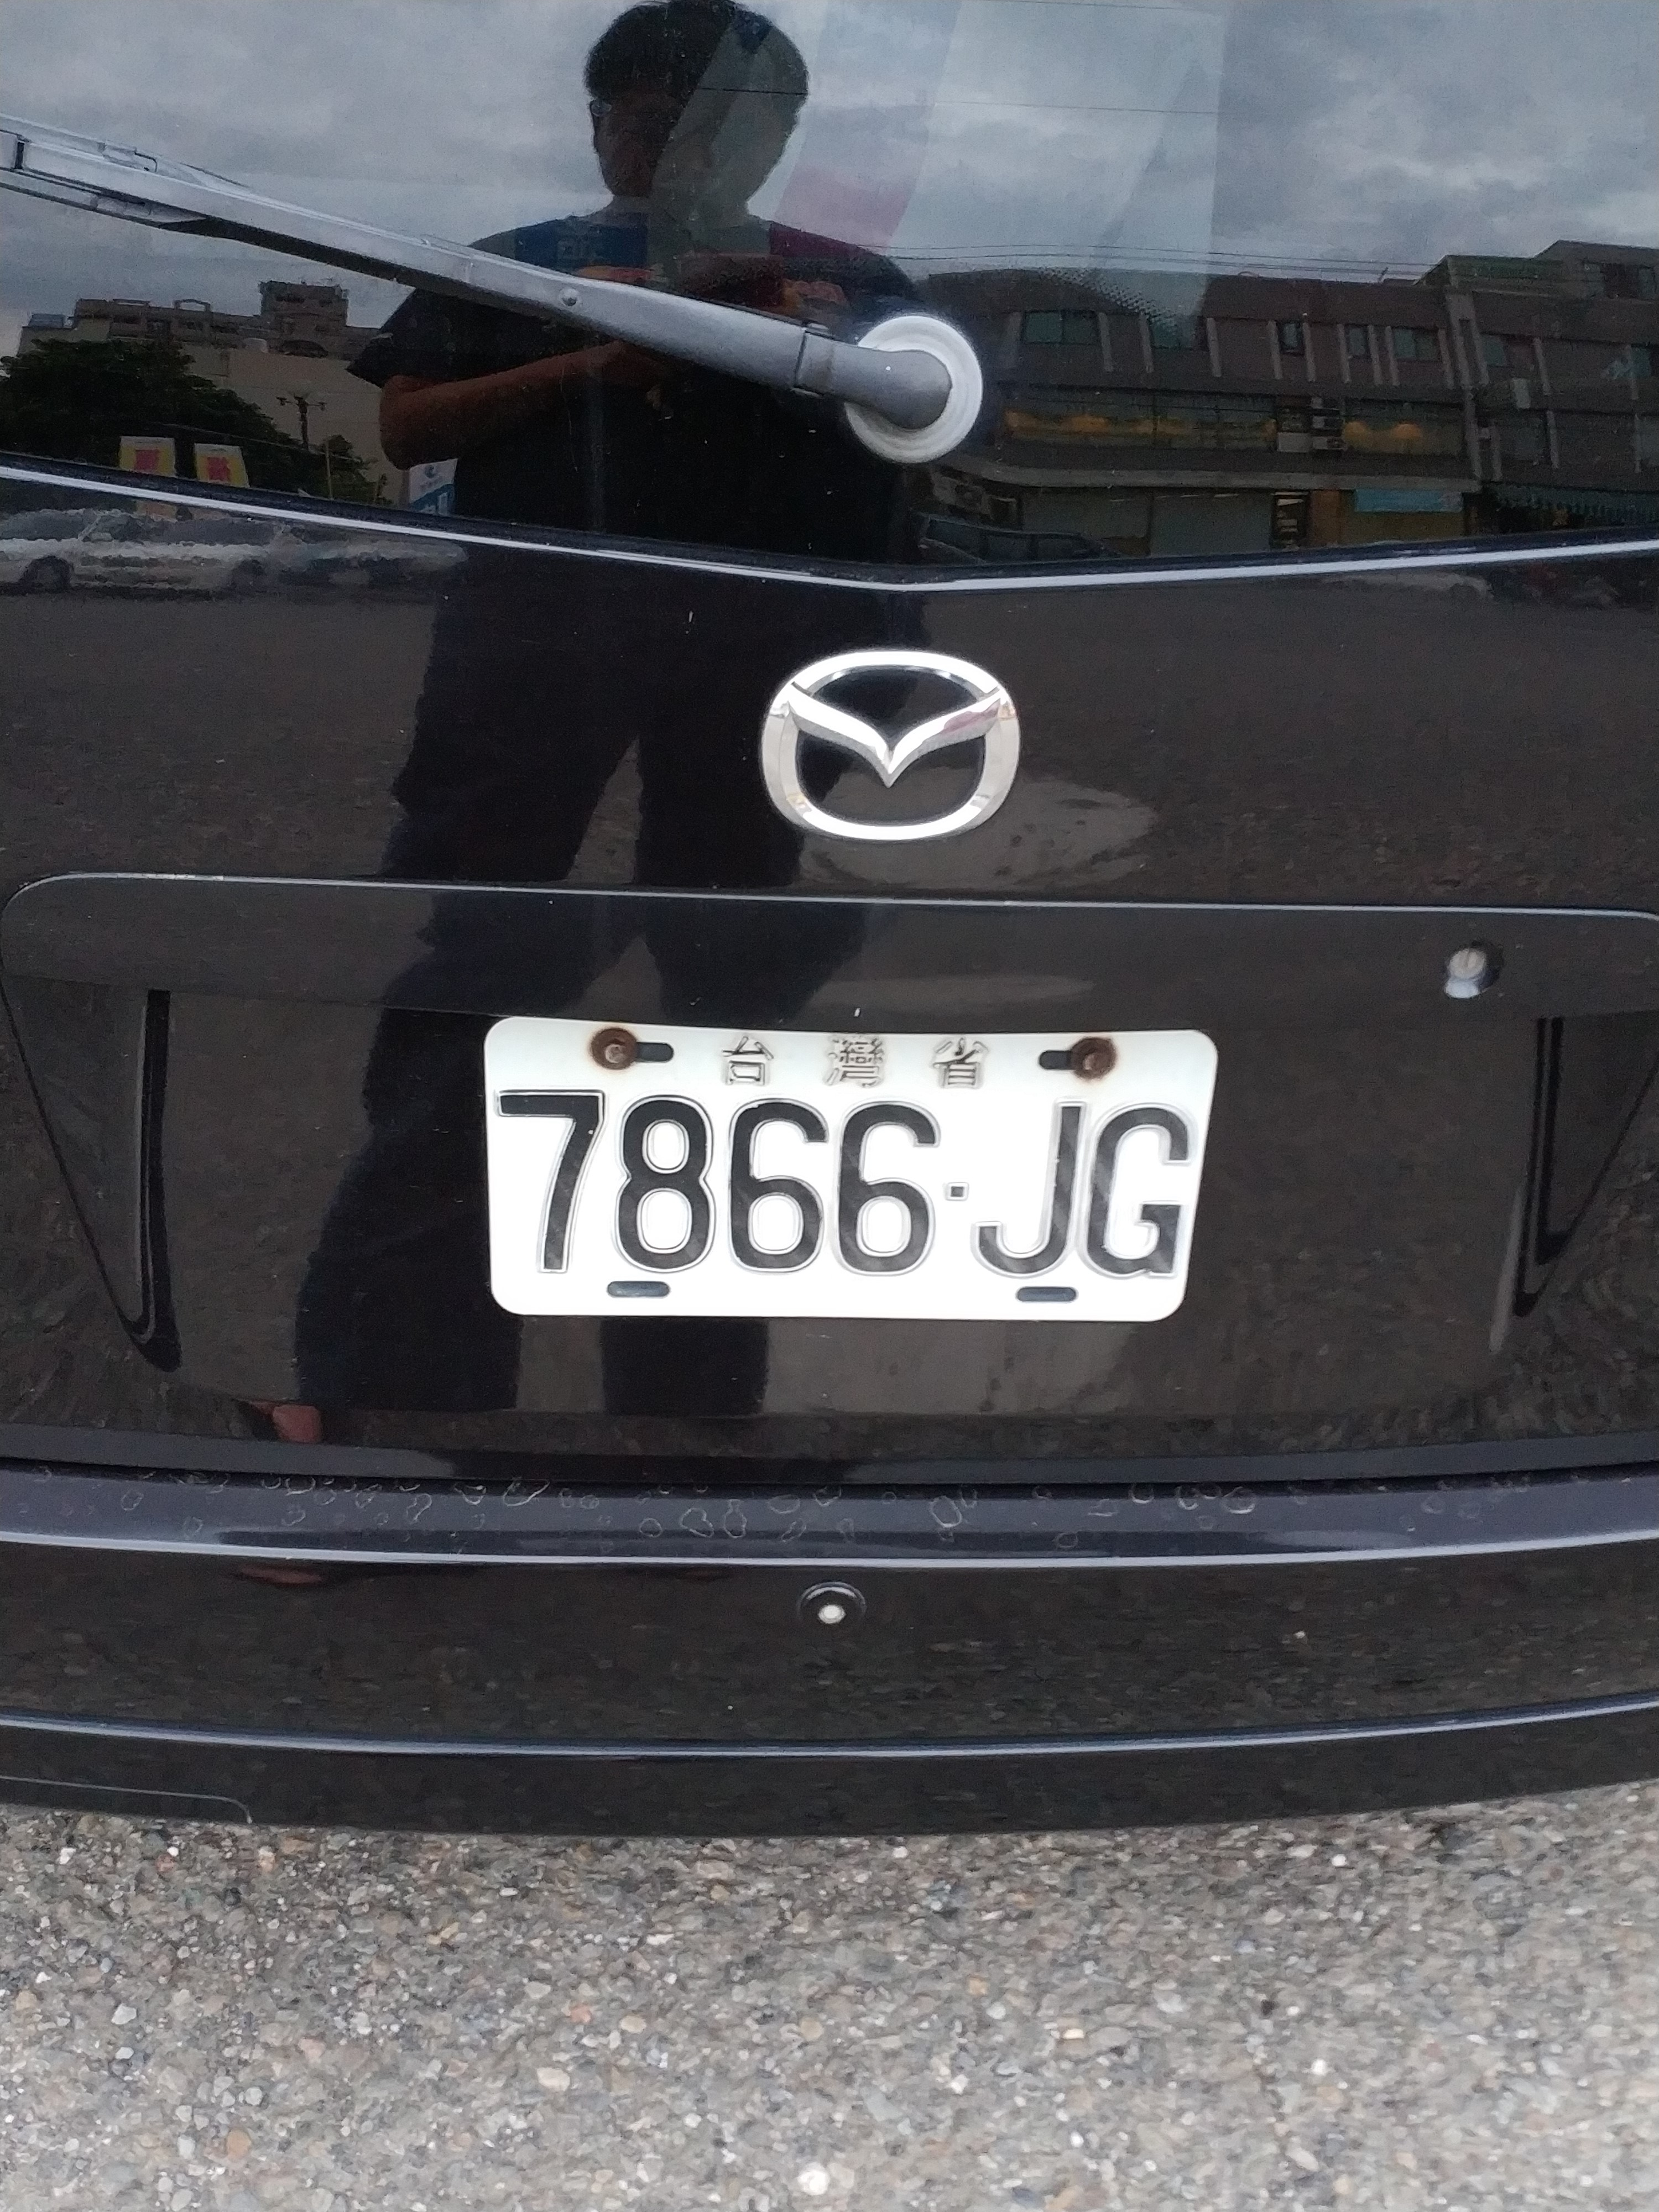car: (2, 10, 1659, 1846)
car_card: (490, 1008, 1218, 1324)
